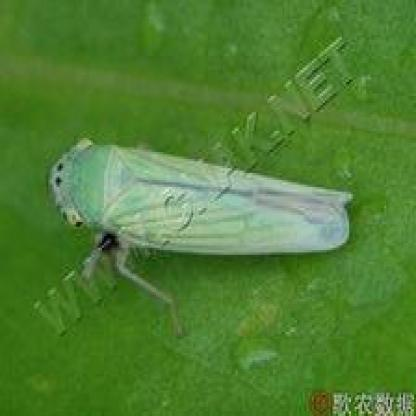Green-Leafhopper: (43, 123, 361, 320)
